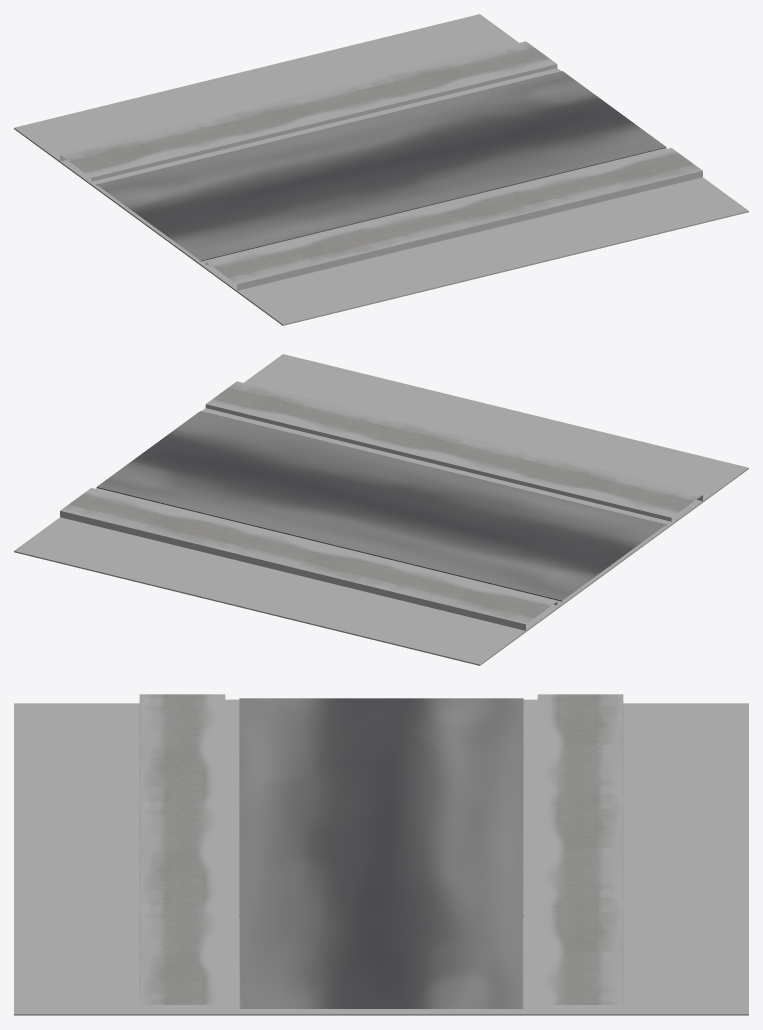
File: Straight_Road.fbx
3 renders of one model, top to bottom at view 1: azimuth 30°, elevation 25°; view 2: azimuth 150°, elevation 25°; view 3: azimuth 270°, elevation 25°, orthographic. The views are drawn at different scales.
Parts seen in each view (by area): view 1: Road_10X24, Road_10X55; view 2: Road_10X24, Road_10X55; view 3: Road_10X24, Road_10X55.
Boxes of the visible parts, left/top/right/bottom form: Road_10X24: left=60, top=41, right=702, bottom=290; Road_10X55: left=14, top=14, right=748, bottom=325; Road_10X24: left=60, top=381, right=702, bottom=630; Road_10X55: left=14, top=354, right=748, bottom=665; Road_10X24: left=139, top=694, right=623, bottom=1010; Road_10X55: left=14, top=703, right=748, bottom=1015.
Size of the model in its own units: 1000 by 16 by 1000.
